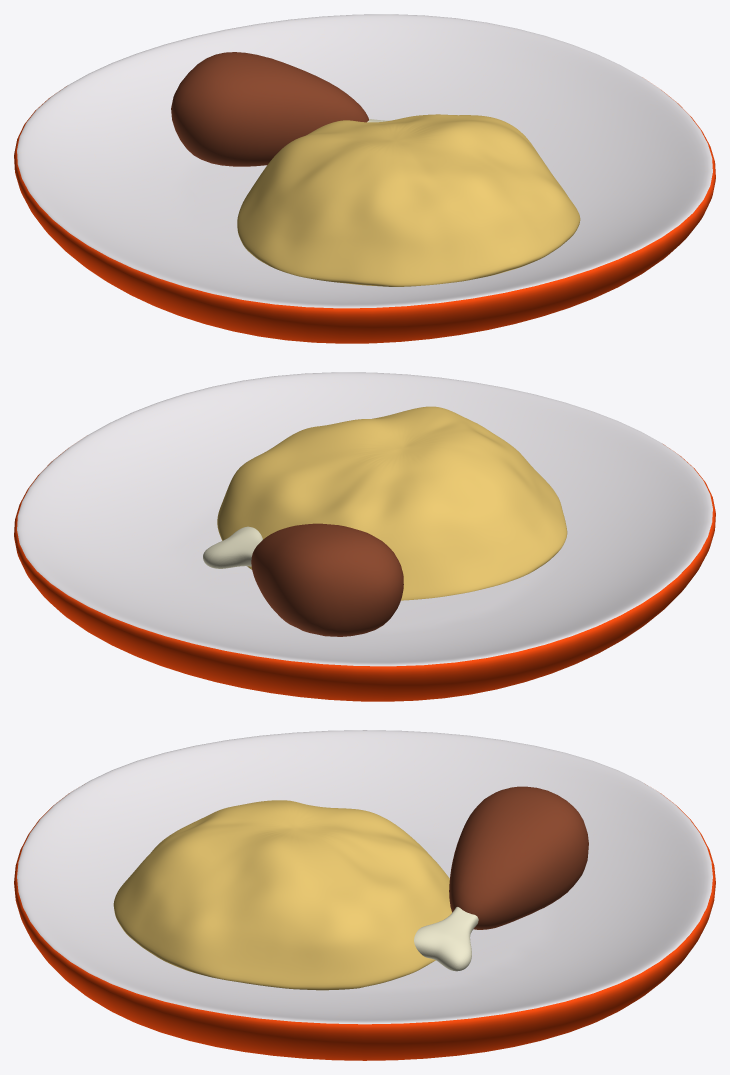
The model's file is puree.glb.
The picture shows the model from 3 angles, top to bottom: view 1: azimuth 30°, elevation 25°; view 2: azimuth 150°, elevation 25°; view 3: azimuth 270°, elevation 25°; orthographic projection. The views are drawn at different scales.
Visible parts, largest first — view 1: Plane; view 2: Plane; view 3: Plane.
Part boxes in pixels (x1,y1,x2,y2): Plane: (14, 14, 715, 343); Plane: (14, 372, 715, 701); Plane: (14, 730, 715, 1060).
Bounding box in the file's own units: 4.64 × 0.9592 × 4.64.
Materials: 5 (5 with a texture image).
